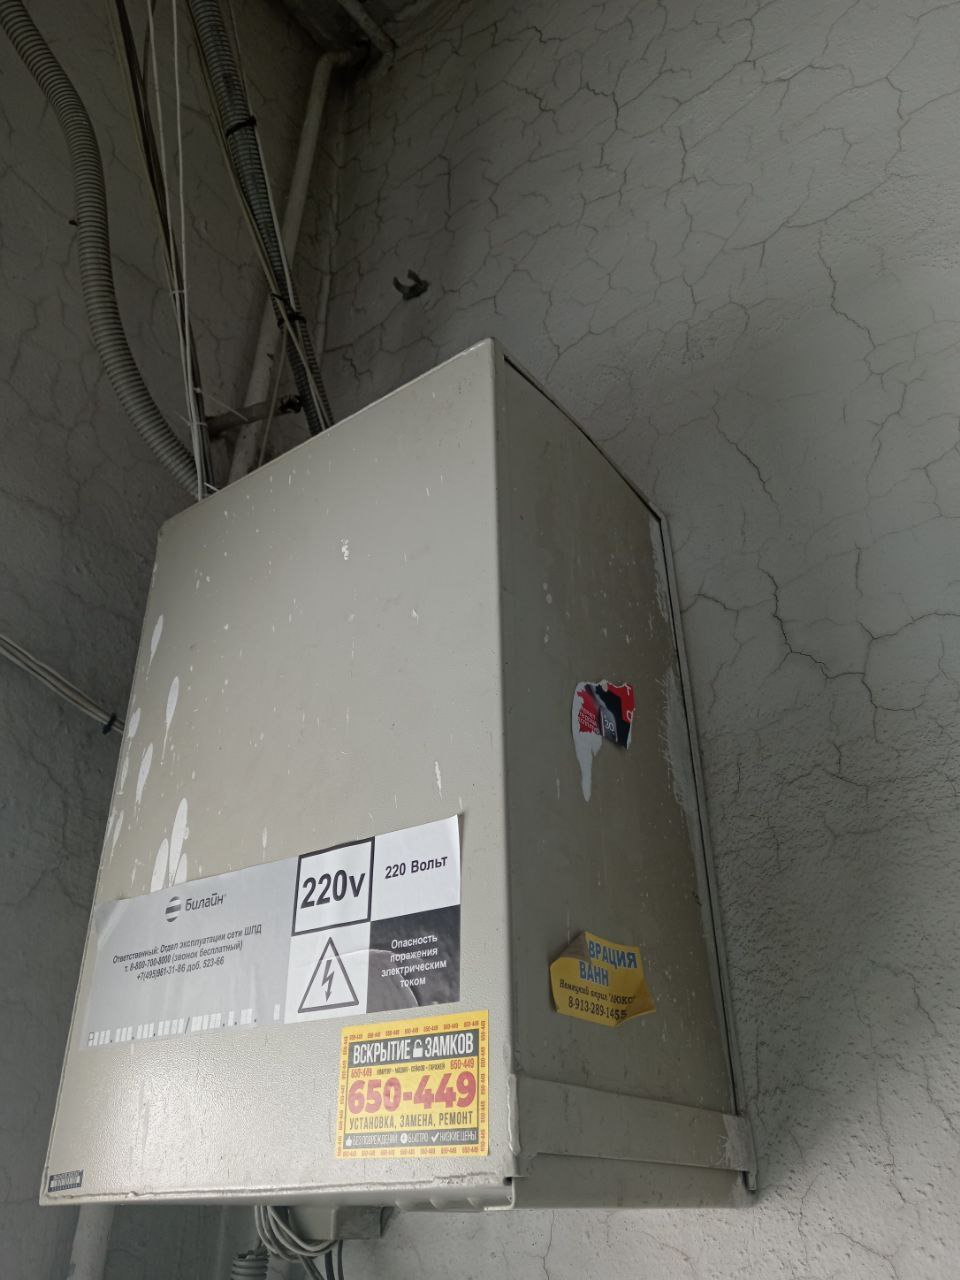sv-5: (30, 329, 765, 1224)
